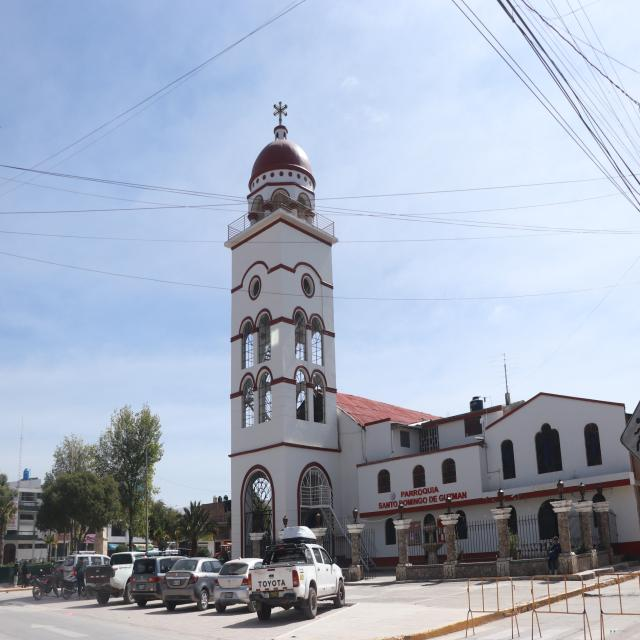CAMPANARIO: (216, 204, 342, 458)
CUPULA: (233, 112, 327, 236)
TORRES: (206, 82, 360, 589)
colonial-architecture-: (189, 119, 640, 593)
